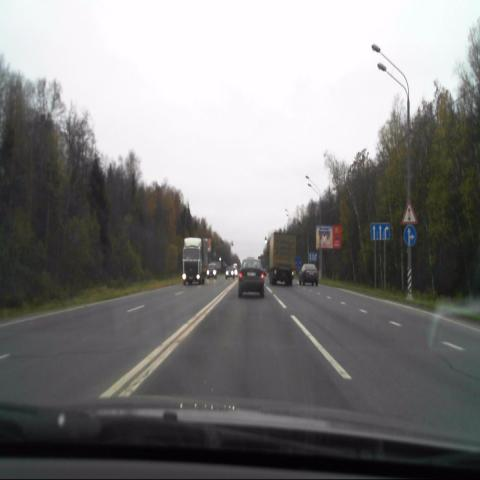1_8: (401, 199, 417, 225)
